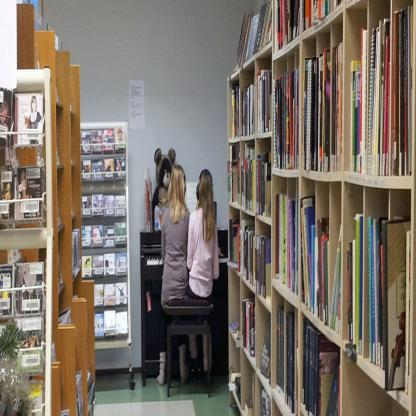book: (82, 126, 125, 340), (367, 4, 416, 178), (301, 41, 344, 171), (384, 216, 412, 404), (0, 260, 46, 368), (298, 193, 331, 332), (300, 318, 341, 415), (276, 0, 345, 54), (270, 66, 301, 173), (233, 0, 274, 75), (367, 214, 385, 370), (349, 25, 367, 170), (274, 192, 296, 295), (348, 212, 364, 350), (227, 140, 254, 213), (15, 163, 45, 224), (329, 223, 343, 342), (13, 88, 41, 146), (254, 231, 274, 298), (240, 222, 258, 286), (256, 149, 272, 217), (283, 310, 293, 416), (243, 295, 258, 359), (256, 68, 270, 136), (0, 89, 13, 144), (241, 84, 255, 135), (276, 305, 284, 394), (259, 322, 271, 379), (2, 164, 13, 224), (232, 80, 240, 138)
